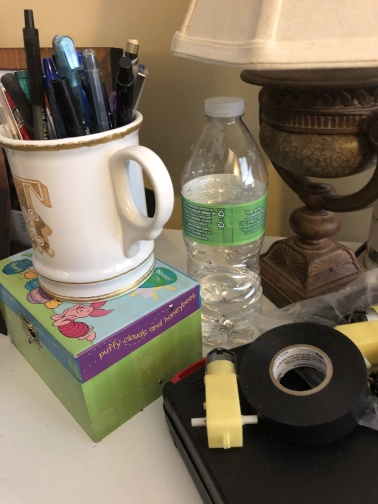bottle: (179, 94, 269, 351)
